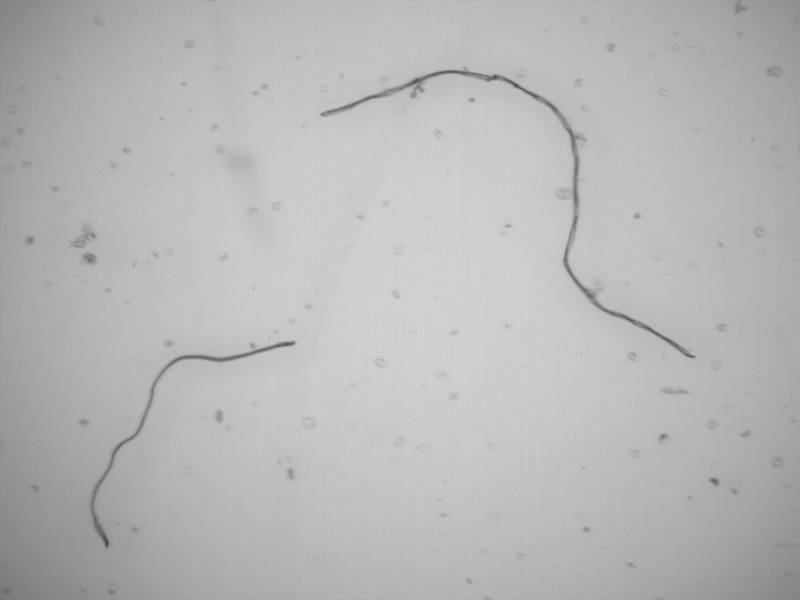fiber: (317, 66, 700, 365), (84, 337, 298, 552)
